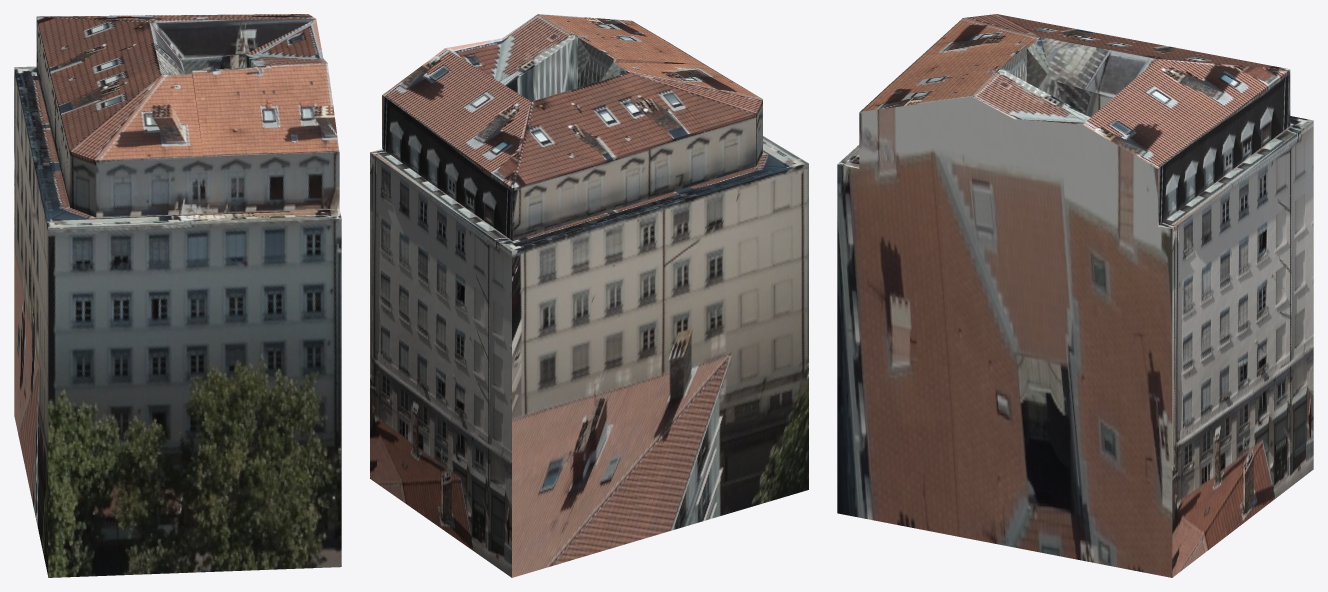
The picture shows the model from 3 angles, left to right: view 1: azimuth 30°, elevation 25°; view 2: azimuth 150°, elevation 25°; view 3: azimuth 270°, elevation 25°; orthographic projection. The views are drawn at different scales.
Parts seen in each view (by area): view 1: Z_UP; view 2: Z_UP; view 3: Z_UP.
Boxes of the visible parts, x1,y1,x2,y2 form: Z_UP: (14,14,341,577); Z_UP: (370,14,808,577); Z_UP: (837,14,1313,577).
Bounding box in the file's own units: 26.23 × 30.5 × 29.73.
2 materials, 1 textured.
